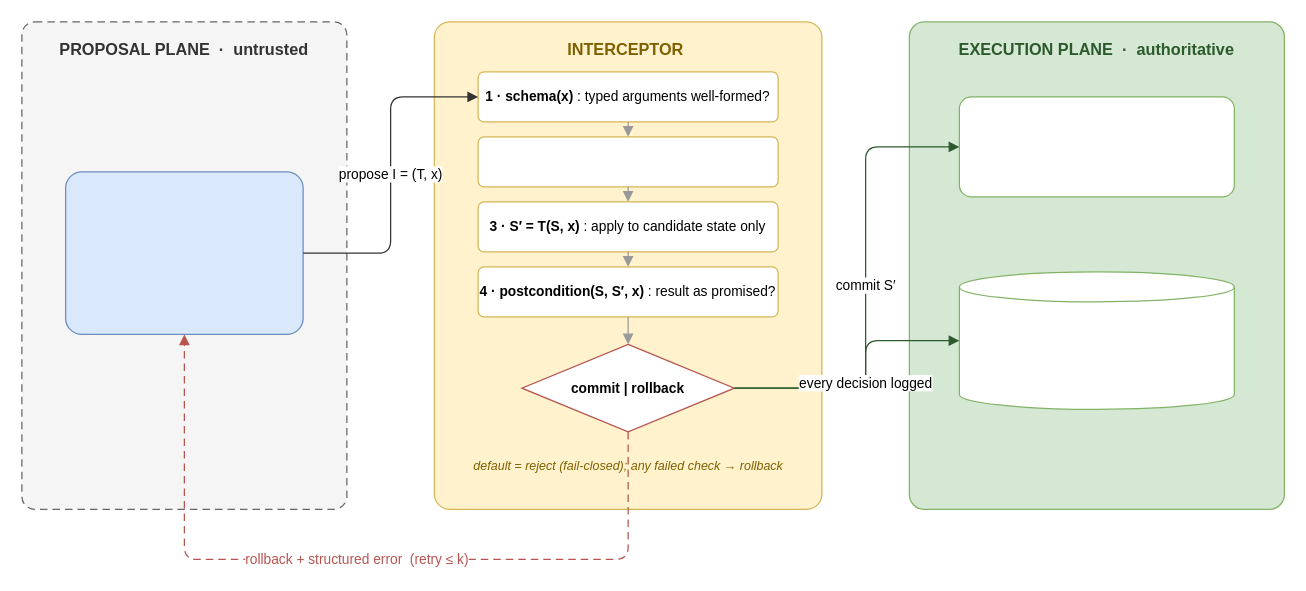
This 1306x591 diagram has some shape labels left out. Here are the shapes that lost their labels. From the top down, the centre of each, then its label:
(x=627, y=161): 2 · precondition(S, x) : permitted in current state?
(x=1096, y=146): authoritative state S typed; mutated only on commit
(x=183, y=252): LLM (proposer) emits proposed tool call I = (T, x) no execution authority
(x=1096, y=340): hash-chained decision log every allow / reject recorded; tamper-evident
